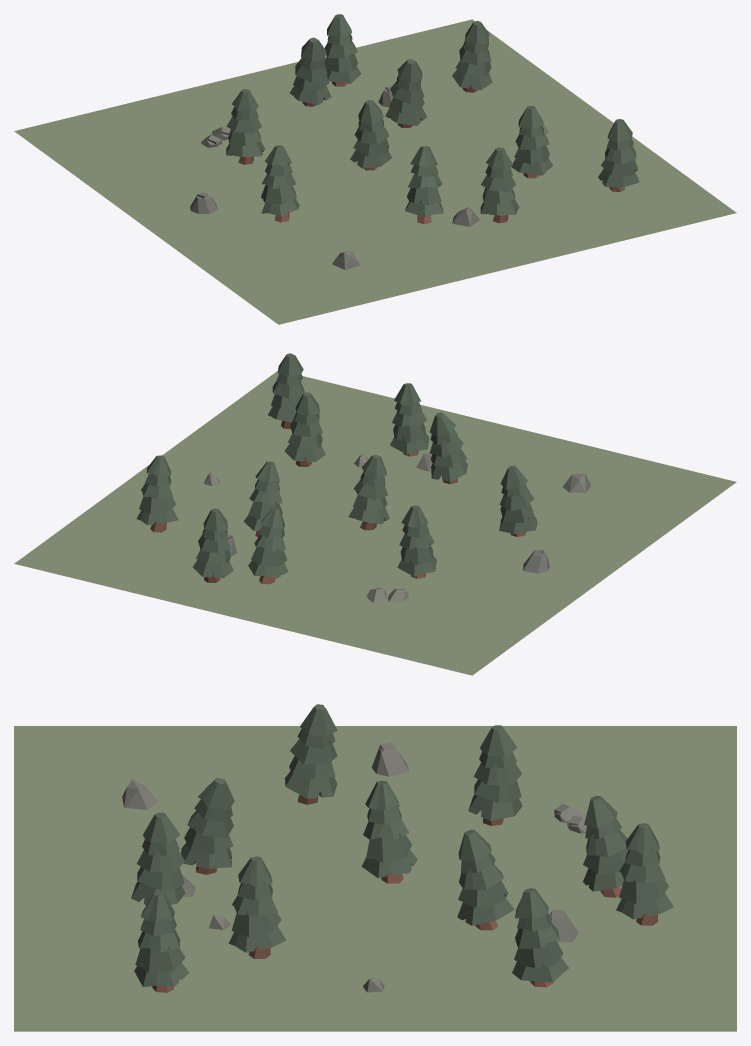
File: ParkSquare.glb
The picture shows the model from 3 angles, top to bottom: view 1: azimuth 30°, elevation 25°; view 2: azimuth 150°, elevation 25°; view 3: azimuth 270°, elevation 25°; orthographic projection. The views are drawn at different scales.
Parts seen in each view (by area): view 1: Plane, spruce3, spruce.001, spruce2, spruce4, spruce4.002, spruce4.001, spruce3.002, spruce3.001, spruce, spruce.002, spruce2.001; view 2: Plane, spruce3.002, spruce3.001, spruce, spruce4.001, spruce2.001, spruce2, spruce.001, spruce4, spruce3, spruce4.002, spruce.002; view 3: Plane, spruce.002, spruce2.001, spruce4.001, spruce3.001, spruce4, spruce3.002, spruce3, spruce4.002, spruce.001, spruce, spruce2 (+3 smaller).
Boxes of the visible parts, x1,y1,x2,y2 form: Plane: (14,19,736,324); spruce3: (261,145,299,222); spruce.001: (405,146,443,224); spruce2: (480,147,519,223); spruce4: (226,89,264,164); spruce4.002: (598,119,639,191); spruce4.001: (511,105,552,178); spruce3.002: (452,21,492,92); spruce3.001: (350,100,392,170); spruce: (290,37,331,106); spruce.002: (385,58,426,127); spruce2.001: (324,14,361,86); Plane: (14,371,736,675); spruce3.002: (136,455,178,532); spruce3.001: (348,454,389,530); spruce: (248,507,288,584); spruce4.001: (284,392,325,466); spruce2.001: (192,508,233,582); spruce2: (390,383,429,456); spruce.001: (429,412,467,484); spruce4: (397,505,436,578); spruce3: (499,465,537,536); spruce4.002: (268,353,304,428); spruce.002: (243,461,282,537); Plane: (14,726,736,1031); spruce.002: (457,830,514,930); spruce2.001: (616,823,673,925); spruce4.001: (228,856,286,958); spruce3.001: (361,780,417,883); spruce4: (468,725,522,825); spruce3.002: (512,888,568,987); spruce3: (284,704,337,804); spruce4.002: (134,891,189,992); spruce.001: (181,777,234,874); spruce: (583,796,628,897); spruce2: (131,812,185,905).
Bounding box in the file's own units: 60 × 10.31 × 60.
